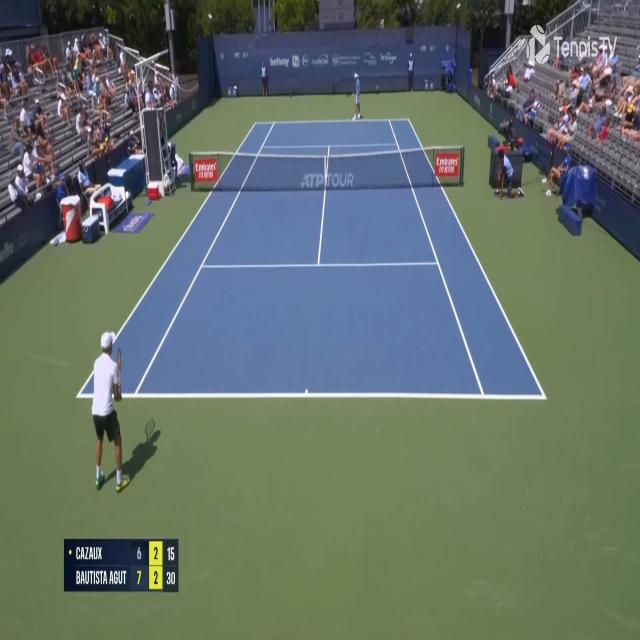tennis-player: (76, 326, 148, 497), (351, 70, 364, 124)
